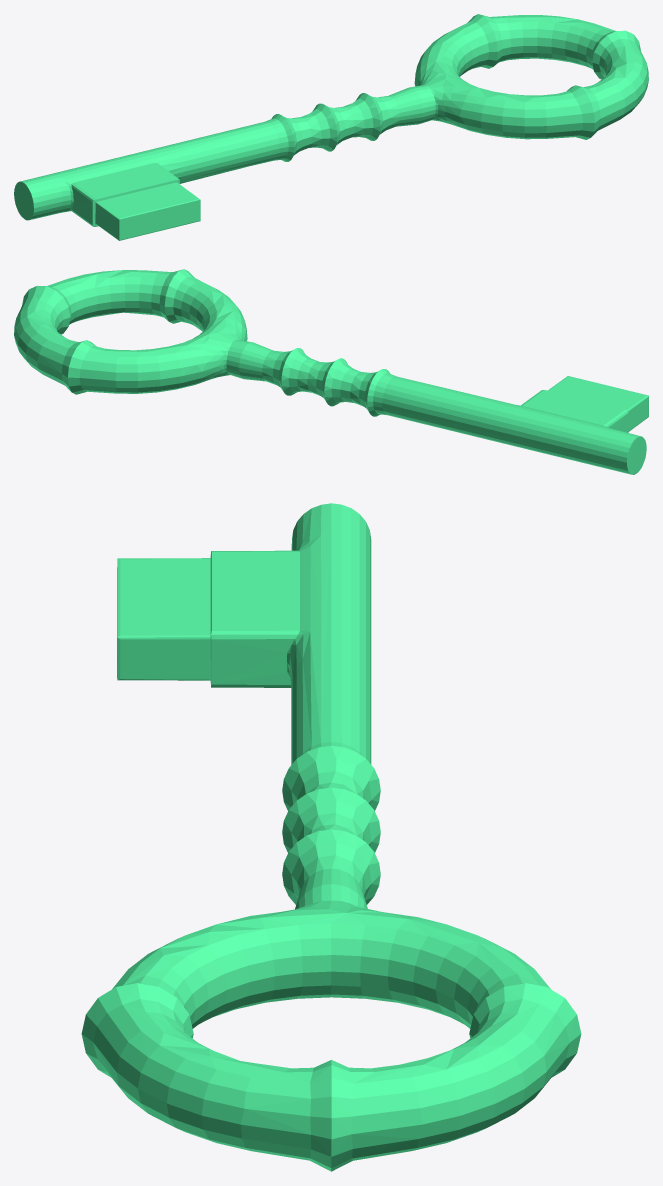
The model's file is key.fbx.
The picture shows the model from 3 angles, top to bottom: view 1: azimuth 30°, elevation 25°; view 2: azimuth 150°, elevation 25°; view 3: azimuth 270°, elevation 25°; orthographic projection. The views are drawn at different scales.
Parts seen in each view (by area): view 1: 0key; view 2: 0key; view 3: 0key.
Part boxes in pixels (left/top/right/bottom): 0key: left=14, top=14, right=648, bottom=240; 0key: left=14, top=269, right=648, bottom=474; 0key: left=81, top=503, right=581, bottom=1171.
Size of the model in its own units: 200 by 15.79 by 70.39.
